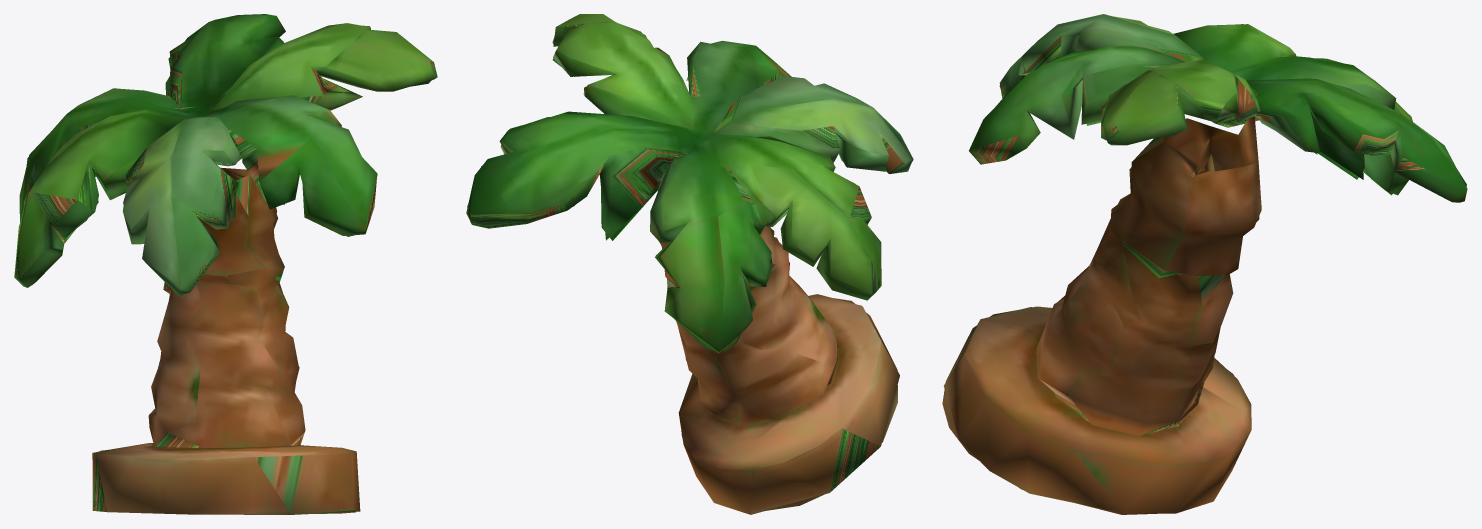
Rendered from sw-palm-b-lite.glb.
3 renders of one model, left to right at view 1: azimuth 30°, elevation 25°; view 2: azimuth 150°, elevation 25°; view 3: azimuth 270°, elevation 25°, orthographic. The views are drawn at different scales.
Parts seen in each view (by area): view 1: geometry_0; view 2: geometry_0; view 3: geometry_0.
Part boxes in pixels (x1,y1,x2,y2): geometry_0: [14, 14, 437, 514]; geometry_0: [466, 14, 913, 514]; geometry_0: [942, 14, 1467, 514].
Bounding box in the file's own units: 0.7536 × 0.8776 × 0.8357.
1 material, 1 textured.
